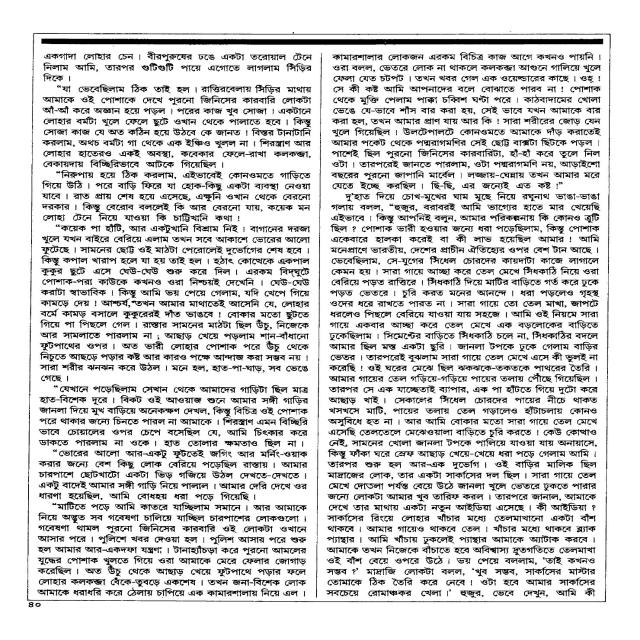page number: (27, 601, 42, 608)
paragraph: (326, 191, 603, 598), (41, 223, 311, 382), (329, 52, 603, 191), (35, 502, 309, 597), (41, 84, 313, 169), (37, 383, 310, 447), (39, 169, 313, 222), (36, 448, 309, 501), (41, 52, 314, 83)
